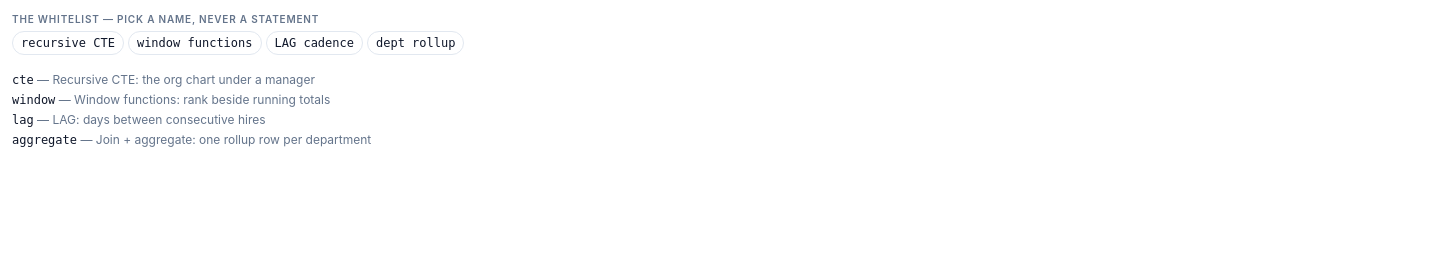
Test: SqlLabDemo › runs a named query and renders SQL beside rows
This screenshot has width=1452, height=279.
Expected: the list with test id "lab-catalog" is shown, x1=12 y1=72 x2=371 y2=147
Click the button with test id "lab-run-cte": (68, 43) x1=12 y1=31 x2=124 y2=55
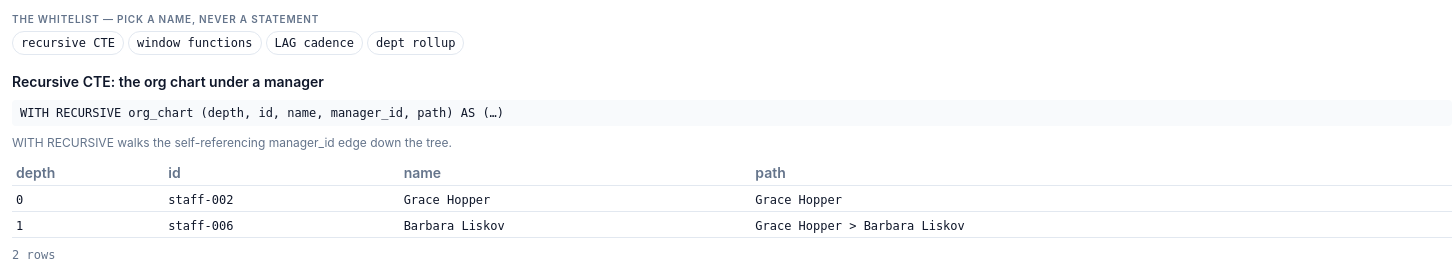
Expected: the text with test id "lab-sql" shows "WITH RECURSIVE", x1=20 y1=106 x2=504 y2=120
Expected: the number of rows with test id "lab-row" is 2, x1=12 y1=186 x2=1451 y2=212; x1=12 y1=212 x2=1451 y2=238
Expected: the row with test id "lab-row" shows "Grace Hopper", x1=404 y1=193 x2=490 y2=207
